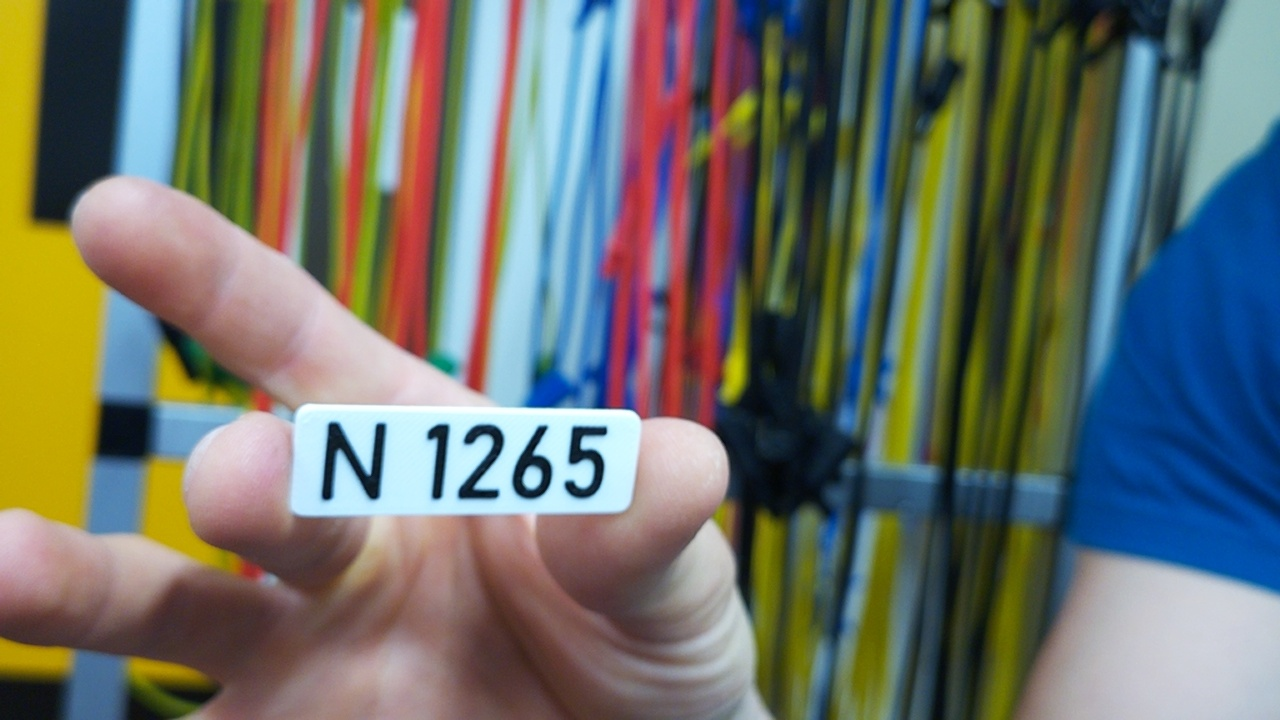license_plate: (288, 401, 643, 518), (465, 394, 469, 401)
